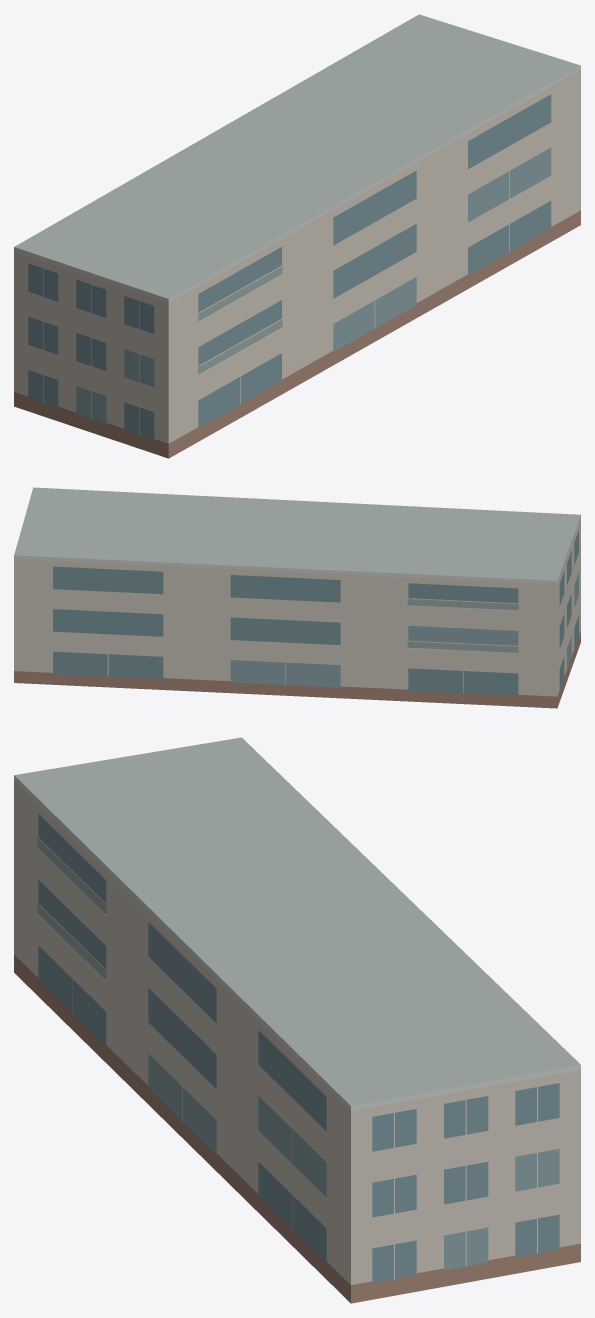
The model's file is survey-upis-32769889.glb.
3 renders of one model, top to bottom at view 1: azimuth 30°, elevation 25°; view 2: azimuth 150°, elevation 25°; view 3: azimuth 270°, elevation 25°, orthographic. The views are drawn at different scales.
Parts seen in each view (by area): view 1: survey-upis-32769889.tmp; view 2: survey-upis-32769889.tmp; view 3: survey-upis-32769889.tmp.
Part boxes in pixels (box(x1,y1,x2,y2)): survey-upis-32769889.tmp: box(14, 14, 580, 458); survey-upis-32769889.tmp: box(14, 487, 580, 708); survey-upis-32769889.tmp: box(14, 737, 580, 1303).
Size of the model in its own units: 36.67 by 9.15 by 23.82.
